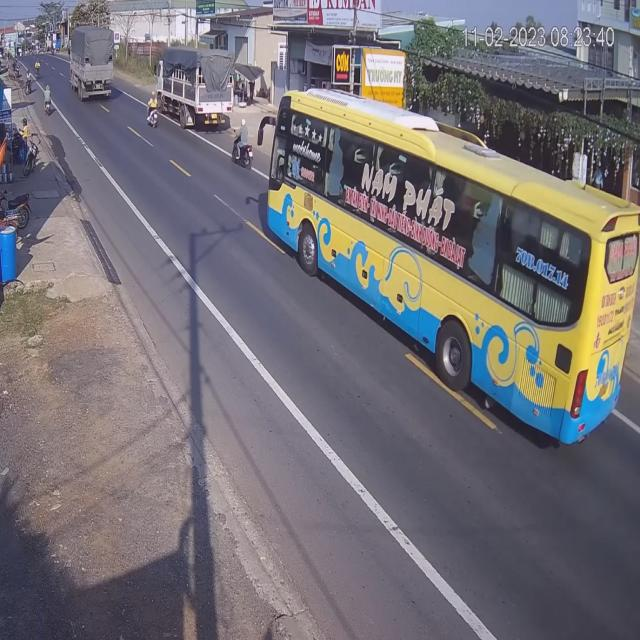motorbike: (232, 123, 255, 169), (42, 84, 54, 118), (147, 95, 159, 127)
truck: (263, 89, 640, 452), (152, 46, 234, 134), (70, 24, 114, 100)
